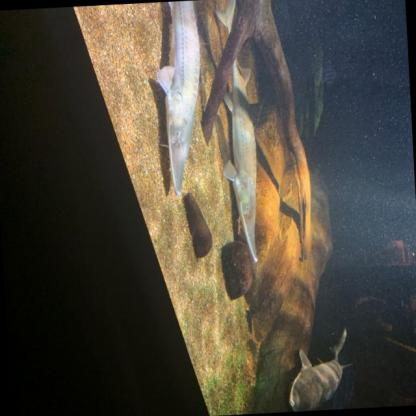fish: (214, 0, 268, 266), (153, 0, 207, 198)
shark: (284, 328, 356, 412)
